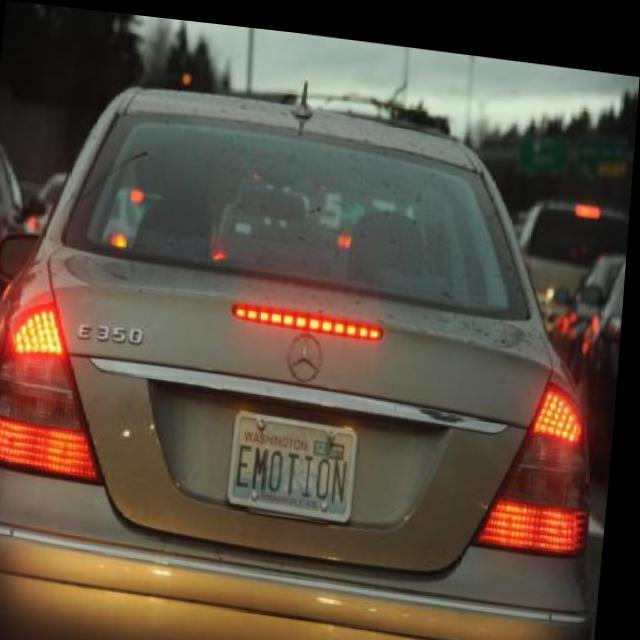license_plate: (233, 404, 364, 514)
